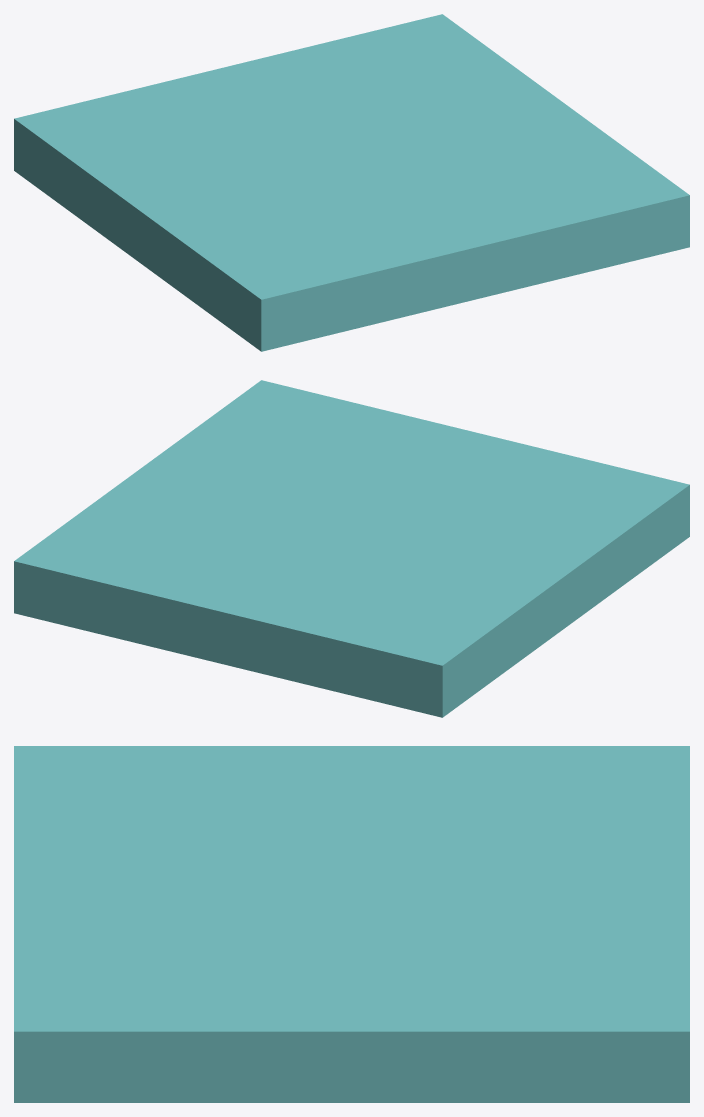
Rendered from SqrWallLamp.fbx.
3 views of the same model, one above another, from view 1: azimuth 30°, elevation 25°; view 2: azimuth 150°, elevation 25°; view 3: azimuth 270°, elevation 25° (orthographic). The views are drawn at different scales.
Visible parts, largest first — view 1: SqrWallLamp; view 2: SqrWallLamp; view 3: SqrWallLamp.
Boxes of the visible parts, <box> form: SqrWallLamp: <box>14,14,689,351</box>; SqrWallLamp: <box>14,380,689,717</box>; SqrWallLamp: <box>14,746,689,1102</box>.
Size of the model in its own units: 2 by 2 by 0.2321.
